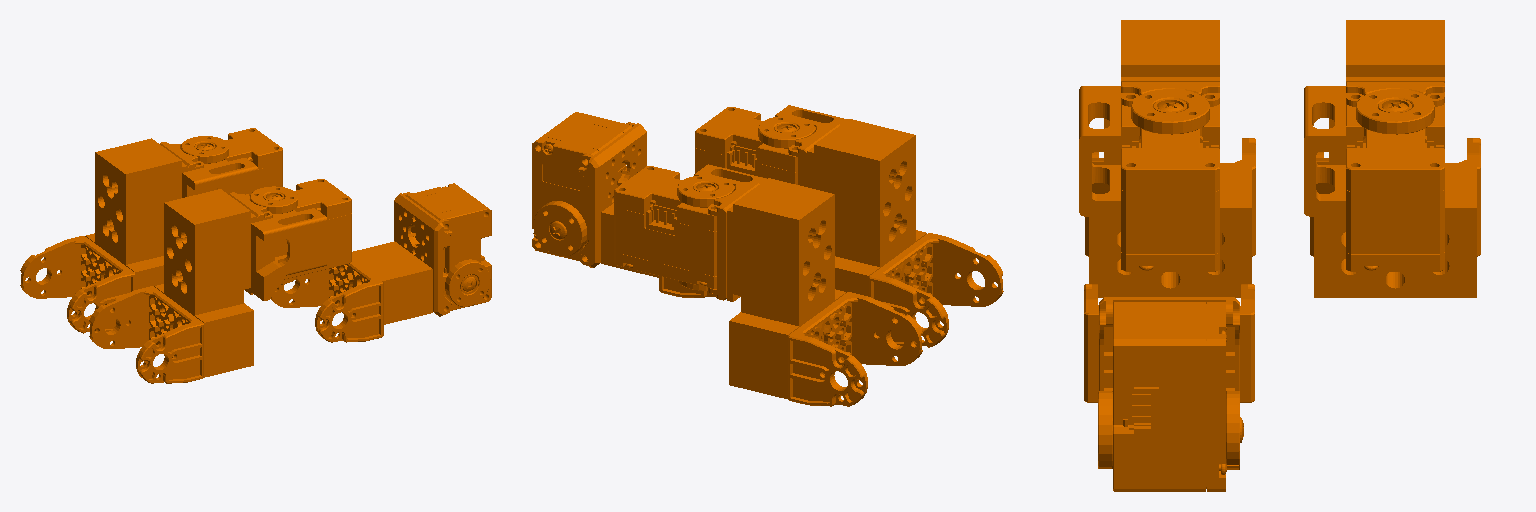
robot.urdf — onshape:
<robot name="onshape">
  <link name="palm_lower">
    <inertial>
      <origin xyz="0.0 0.0 0.0" rpy="0.0 -0.0 0.0"/>
      <mass value="0.237"/>
      <inertia ixx="0.000354094" ixy="-1.193e-06" ixz="-2.445e-06" iyy="0.000260915" iyz="-2.905e-06" izz="0.000529257"/>
    </inertial>
    <visual>
      <geometry>
        <mesh filename="../assets/leap/leap_hand/palm_lower.stl"/>
      </geometry>
      <origin xyz="-0.020095249652862544 0.025757756134899473 -0.034722403578460216" rpy="0.0 -0.0 0.0"/>
      <material name="palm_lower_material">
        <color rgba="0.6039215686274509 0.14901960784313725 0.14901960784313725 1.0"/>
      </material>
    </visual>
    <collision>
      <geometry>
        <mesh filename="../assets/leap/leap_hand/palm_lower.stl"/>
      </geometry>
      <origin xyz="-0.020095249652862544 0.025757756134899473 -0.034722403578460216" rpy="0.0 -0.0 0.0"/>
    </collision>
  </link>
  <link name="mcp_joint_long">
    <inertial>
      <origin xyz="0.0 0.0 0.0" rpy="0.0 -0.0 0.0"/>
      <mass value="0.044"/>
      <inertia ixx="1.1499e-05" ixy="3.049e-06" ixz="1.21e-07" iyy="7.796e-06" iyz="1.12e-07" izz="1.4759e-05"/>
    </inertial>
    <visual>
      <geometry>
        <mesh filename="custom_models/mcp_joint_long.stl"/>
      </geometry>
      <origin xyz="0.008406902261174496 0.0077662438597169954 0.014657354985032912" rpy="1.6375789613221e-15 -1.021047330249102e-30 1.7177968783327987e-31"/>
      <material name="mcp_joint_material">
        <color rgba="0.878 0.467 0.0 1.0"/>
      </material>
    </visual>
    <collision>
      <geometry>
        <mesh filename="custom_models/mcp_joint_long.stl"/>
      </geometry>
      <origin xyz="0.008406902261174496 0.0077662438597169954 0.014657354985032912" rpy="1.6375789613221e-15 -1.021047330249102e-30 1.7177968783327987e-31"/>
    </collision>
  </link>
  <link name="pip">
    <inertial>
      <origin xyz="0.0 0.0 0.0" rpy="0.0 -0.0 0.0"/>
      <mass value="0.032"/>
      <inertia ixx="4.798e-06" ixy="1.2e-08" ixz="4e-09" iyy="2.862e-06" iyz="1.1e-08" izz="4.234e-06"/>
    </inertial>
    <visual>
      <geometry>
        <mesh filename="../assets/leap/leap_hand/pip.stl"/>
      </geometry>
      <origin xyz="0.009643363092271328 0.0002999999999999895 0.0007840340104173765" rpy="-1.5707963267948966 -1.5707963267948963 0.0"/>
      <material name="pip_material">
        <color rgba="0.7490196078431373 0.7490196078431373 0.7490196078431373 1.0"/>
      </material>
    </visual>
    <collision>
      <geometry>
        <mesh filename="../assets/leap/leap_hand/pip.stl"/>
      </geometry>
      <origin xyz="0.009643363092271328 0.0002999999999999895 0.0007840340104173765" rpy="-1.5707963267948966 -1.5707963267948963 0.0"/>
    </collision>
  </link>
  <link name="dip">
    <inertial>
      <origin xyz="0.0 0.0 0.0" rpy="0.0 -0.0 0.0"/>
      <mass value="0.037"/>
      <inertia ixx="5.542e-06" ixy="-6.07e-07" ixz="-1.7e-08" iyy="5.727e-06" iyz="-2.3e-08" izz="6.682e-06"/>
    </inertial>
    <visual>
      <geometry>
        <mesh filename="../assets/leap/leap_hand/dip.stl"/>
      </geometry>
      <origin xyz="0.021133352895225003 -0.00843211914670488 0.00978508816209524" rpy="-3.141592653589793 4.507511124216441e-32 4.439548105392361e-32"/>
      <material name="dip_material">
        <color rgba="0.8666666666666667 0.8666666666666667 0.050980392156862744 1.0"/>
      </material>
    </visual>
    <collision>
      <geometry>
        <mesh filename="../assets/leap/leap_hand/dip.stl"/>
      </geometry>
      <origin xyz="0.021133352895225003 -0.00843211914670488 0.00978508816209524" rpy="-3.141592653589793 4.507511124216441e-32 4.439548105392361e-32"/>
    </collision>
  </link>
  <link name="fingertip">
    <inertial>
      <origin xyz="0.0 0.0 0.0" rpy="0.0 -0.0 0.0"/>
      <mass value="0.016"/>
      <inertia ixx="3.368e-06" ixy="1.15e-07" ixz="0.0" iyy="1.556e-06" iyz="0.0" izz="2.863e-06"/>
    </inertial>
    <visual>
      <geometry>
        <mesh filename="../assets/leap/leap_hand/fingertip.stl"/>
      </geometry>
      <origin xyz="0.013286424108533503 -0.006114238386541987 0.014499999999999498" rpy="3.141592653589793 1.1993117970061735e-33 4.439548105392361e-32"/>
      <material name="fingertip_material">
        <color rgba="0.8666666666666667 0.8666666666666667 0.050980392156862744 1.0"/>
      </material>
    </visual>
    <collision>
      <geometry>
        <mesh filename="../assets/leap/leap_hand/fingertip.stl"/>
      </geometry>
      <origin xyz="0.013286424108533503 -0.006114238386541987 0.014499999999999498" rpy="3.141592653589793 1.1993117970061735e-33 4.439548105392361e-32"/>
    </collision>
  </link>
  <link name="pip_4">
    <inertial>
      <origin xyz="0.0 0.0 0.0" rpy="0.0 -0.0 0.0"/>
      <mass value="0.032"/>
      <inertia ixx="4.798e-06" ixy="1.2e-08" ixz="4e-09" iyy="2.862e-06" iyz="1.1e-08" izz="4.234e-06"/>
    </inertial>
    <visual>
      <geometry>
        <mesh filename="../assets/leap/leap_hand/pip.stl"/>
      </geometry>
      <origin xyz="-0.005356636907728671 0.0002999999999999999 0.0007840340104173782" rpy="-1.5707963267948966 -1.5707963267948963 0.0"/>
      <material name="pip_material">
        <color rgba="0.7490196078431373 0.7490196078431373 0.7490196078431373 1.0"/>
      </material>
    </visual>
    <collision>
      <geometry>
        <mesh filename="../assets/leap/leap_hand/pip.stl"/>
      </geometry>
      <origin xyz="-0.005356636907728671 0.0002999999999999999 0.0007840340104173782" rpy="-1.5707963267948966 -1.5707963267948963 0.0"/>
    </collision>
  </link>
  <link name="thumb_pip">
    <inertial>
      <origin xyz="0.0 0.0 0.0" rpy="0.0 -0.0 0.0"/>
      <mass value="0.003"/>
      <inertia ixx="5.93e-07" ixy="0.0" ixz="0.0" iyy="5.49e-07" iyz="0.0" izz="2.24e-07"/>
    </inertial>
    <visual>
      <geometry>
        <mesh filename="../assets/leap/leap_hand/thumb_pip.stl"/>
      </geometry>
      <origin xyz="0.011961920770611187 -5.30825383648903e-16 -0.0158526489566642" rpy="1.5707963267948966 1.6050198443300153e-46 -3.9204996250525193e-59"/>
      <material name="thumb_pip_material">
        <color rgba="0.8666666666666667 0.8666666666666667 0.050980392156862744 1.0"/>
      </material>
    </visual>
    <collision>
      <geometry>
        <mesh filename="../assets/leap/leap_hand/thumb_pip.stl"/>
      </geometry>
      <origin xyz="0.011961920770611187 -5.30825383648903e-16 -0.0158526489566642" rpy="1.5707963267948966 1.6050198443300153e-46 -3.9204996250525193e-59"/>
    </collision>
  </link>
  <link name="thumb_dip">
    <inertial>
      <origin xyz="0.0 0.0 0.0" rpy="0.0 -0.0 0.0"/>
      <mass value="0.038"/>
      <inertia ixx="8.474e-06" ixy="2.41e-07" ixz="2.6e-08" iyy="3.841e-06" iyz="2.5e-08" izz="7.679e-06"/>
    </inertial>
    <visual>
      <geometry>
        <mesh filename="../assets/leap/leap_hand/thumb_dip.stl"/>
      </geometry>
      <origin xyz="0.043968715707239175 0.0579529529737092 -0.008628676449369476" rpy="1.94289029309401e-16 3.27515792264422e-15 1.112375852965736e-46"/>
      <material name="thumb_dip_material">
        <color rgba="0.8666666666666667 0.8666666666666667 0.050980392156862744 1.0"/>
      </material>
    </visual>
    <collision>
      <geometry>
        <mesh filename="../assets/leap/leap_hand/thumb_dip.stl"/>
      </geometry>
      <origin xyz="0.043968715707239175 0.0579529529737092 -0.008628676449369476" rpy="1.94289029309401e-16 3.27515792264422e-15 1.112375852965736e-46"/>
    </collision>
  </link>
  <link name="thumb_fingertip">
    <inertial>
      <origin xyz="0.0 0.0 0.0" rpy="0.0 -0.0 0.0"/>
      <mass value="0.049"/>
      <inertia ixx="2.0372e-05" ixy="-4.89e-07" ixz="-3e-08" iyy="4.336e-06" iyz="-9.7e-08" izz="1.9845e-05"/>
    </inertial>
    <visual>
      <geometry>
        <mesh filename="../assets/leap/leap_hand/thumb_fingertip.stl"/>
      </geometry>
      <origin xyz="0.06255953846266739 0.07845968291139699 0.048992911807332215" rpy="4.379057701015637e-47 -3.33066907387547e-16 1.2042408677791935e-46"/>
      <material name="thumb_fingertip_material">
        <color rgba="0.6039215686274509 0.14901960784313725 0.14901960784313725 1.0"/>
      </material>
    </visual>
    <collision>
      <geometry>
        <mesh filename="../assets/leap/leap_hand/thumb_fingertip.stl"/>
      </geometry>
      <origin xyz="0.06255953846266739 0.07845968291139699 0.048992911807332215" rpy="4.379057701015637e-47 -3.33066907387547e-16 1.2042408677791935e-46"/>
    </collision>
  </link>
  <link name="mcp_joint_2_long">
    <inertial>
      <origin xyz="0.0 0.0 0.0" rpy="0.0 -0.0 0.0"/>
      <mass value="0.044"/>
      <inertia ixx="1.1499e-05" ixy="3.049e-06" ixz="1.21e-07" iyy="7.796e-06" iyz="1.12e-07" izz="1.4759e-05"/>
    </inertial>
    <visual>
      <geometry>
        <mesh filename="custom_models/mcp_joint_long.stl"/>
      </geometry>
      <origin xyz="0.008406902261174496 0.0077662438597169954 0.014657354985032914" rpy="1.6375789613221e-15 -1.0076465469034e-30 2.1209300131419907e-61"/>
      <material name="mcp_joint_material">
        <color rgba="0.878 0.467 0.0 1.0"/>
      </material>
    </visual>
    <collision>
      <geometry>
        <mesh filename="custom_models/mcp_joint_long.stl"/>
      </geometry>
      <origin xyz="0.008406902261174496 0.0077662438597169954 0.014657354985032914" rpy="1.6375789613221e-15 -1.0076465469034e-30 2.1209300131419907e-61"/>
    </collision>
  </link>
  <link name="pip_2">
    <inertial>
      <origin xyz="0.0 0.0 0.0" rpy="0.0 -0.0 0.0"/>
      <mass value="0.032"/>
      <inertia ixx="4.798e-06" ixy="1.2e-08" ixz="4e-09" iyy="2.862e-06" iyz="1.1e-08" izz="4.234e-06"/>
    </inertial>
    <visual>
      <geometry>
        <mesh filename="../assets/leap/leap_hand/pip.stl"/>
      </geometry>
      <origin xyz="0.009643363092271328 0.0002999999999999947 0.0007840340104173765" rpy="-1.5707963267948966 -1.5707963267948963 0.0"/>
      <material name="pip_material">
        <color rgba="0.7490196078431373 0.7490196078431373 0.7490196078431373 1.0"/>
      </material>
    </visual>
    <collision>
      <geometry>
        <mesh filename="../assets/leap/leap_hand/pip.stl"/>
      </geometry>
      <origin xyz="0.009643363092271328 0.0002999999999999947 0.0007840340104173765" rpy="-1.5707963267948966 -1.5707963267948963 0.0"/>
    </collision>
  </link>
  <link name="dip_2_long">
    <inertial>
      <origin xyz="0.0 0.0 0.0" rpy="0.0 -0.0 0.0"/>
      <mass value="0.037"/>
      <inertia ixx="5.542e-06" ixy="-6.07e-07" ixz="-1.7e-08" iyy="5.727e-06" iyz="-2.3e-08" izz="6.682e-06"/>
    </inertial>
    <visual>
      <geometry>
        <mesh filename="custom_models/dip_long.stl"/>
      </geometry>
      <origin xyz="0.021133352895225003 -0.008432119146704865 0.009785088162095237" rpy="-3.141592653589793 2.1146933785271956e-32 1.4408183216511869e-31"/>
      <material name="dip_material">
        <color rgba="0.878 0.467 0.0 1.0"/>
      </material>
    </visual>
    <collision>
      <geometry>
        <mesh filename="custom_models/dip_long.stl"/>
      </geometry>
      <origin xyz="0.021133352895225003 -0.008432119146704865 0.009785088162095237" rpy="-3.141592653589793 2.1146933785271956e-32 1.4408183216511869e-31"/>
    </collision>
  </link>
  <link name="fingertip_2">
    <inertial>
      <origin xyz="0.0 0.0 0.0" rpy="0.0 -0.0 0.0"/>
      <mass value="0.016"/>
      <inertia ixx="3.368e-06" ixy="1.15e-07" ixz="0.0" iyy="1.556e-06" iyz="0.0" izz="2.863e-06"/>
    </inertial>
    <visual>
      <geometry>
        <mesh filename="../assets/leap/leap_hand/fingertip.stl"/>
      </geometry>
      <origin xyz="0.013286424108533496 -0.006114238386542001 0.014499999999999496" rpy="3.141592653589793 -4.317959788283594e-33 1.4408183216511869e-31"/>
      <material name="fingertip_material">
        <color rgba="0.8666666666666667 0.8666666666666667 0.050980392156862744 1.0"/>
      </material>
    </visual>
    <collision>
      <geometry>
        <mesh filename="../assets/leap/leap_hand/fingertip.stl"/>
      </geometry>
      <origin xyz="0.013286424108533496 -0.006114238386542001 0.014499999999999496" rpy="3.141592653589793 -4.317959788283594e-33 1.4408183216511869e-31"/>
    </collision>
  </link>
  <link name="mcp_joint_3">
    <inertial>
      <origin xyz="0.0 0.0 0.0" rpy="0.0 -0.0 0.0"/>
      <mass value="0.044"/>
      <inertia ixx="1.1499e-05" ixy="3.049e-06" ixz="1.21e-07" iyy="7.796e-06" iyz="1.12e-07" izz="1.4759e-05"/>
    </inertial>
    <visual>
      <geometry>
        <mesh filename="../assets/leap/leap_hand/mcp_joint.stl"/>
      </geometry>
      <origin xyz="0.0084069022611745 0.007766243859716996 0.014657354985032914" rpy="1.6375789613221e-15 -1.0059504988632627e-30 5.729641584552035e-32"/>
      <material name="mcp_joint_material">
        <color rgba="0.8666666666666667 0.8666666666666667 0.050980392156862744 1.0"/>
      </material>
    </visual>
    <collision>
      <geometry>
        <mesh filename="../assets/leap/leap_hand/mcp_joint.stl"/>
      </geometry>
      <origin xyz="0.0084069022611745 0.007766243859716996 0.014657354985032914" rpy="1.6375789613221e-15 -1.0059504988632627e-30 5.729641584552035e-32"/>
    </collision>
  </link>
  <link name="pip_3">
    <inertial>
      <origin xyz="0.0 0.0 0.0" rpy="0.0 -0.0 0.0"/>
      <mass value="0.032"/>
      <inertia ixx="4.798e-06" ixy="1.2e-08" ixz="4e-09" iyy="2.862e-06" iyz="1.1e-08" izz="4.234e-06"/>
    </inertial>
    <visual>
      <geometry>
        <mesh filename="../assets/leap/leap_hand/pip.stl"/>
      </geometry>
      <origin xyz="0.009643363092271331 0.00029999999999998084 0.0007840340104173765" rpy="-1.5707963267948966 -1.5707963267948963 0.0"/>
      <material name="pip_material">
        <color rgba="0.7490196078431373 0.7490196078431373 0.7490196078431373 1.0"/>
      </material>
    </visual>
    <collision>
      <geometry>
        <mesh filename="../assets/leap/leap_hand/pip.stl"/>
      </geometry>
      <origin xyz="0.009643363092271331 0.00029999999999998084 0.0007840340104173765" rpy="-1.5707963267948966 -1.5707963267948963 0.0"/>
    </collision>
  </link>
  <link name="dip_3">
    <inertial>
      <origin xyz="0.0 0.0 0.0" rpy="0.0 -0.0 0.0"/>
      <mass value="0.037"/>
      <inertia ixx="5.542e-06" ixy="-6.07e-07" ixz="-1.7e-08" iyy="5.727e-06" iyz="-2.3e-08" izz="6.682e-06"/>
    </inertial>
    <visual>
      <geometry>
        <mesh filename="../assets/leap/leap_hand/dip.stl"/>
      </geometry>
      <origin xyz="0.021133352895225006 -0.008432119146704865 0.009785088162095237" rpy="-3.141592653589793 -1.4095651113919093e-33 1.5565411607615035e-32"/>
      <material name="dip_material">
        <color rgba="0.8666666666666667 0.8666666666666667 0.050980392156862744 1.0"/>
      </material>
    </visual>
    <collision>
      <geometry>
        <mesh filename="../assets/leap/leap_hand/dip.stl"/>
      </geometry>
      <origin xyz="0.021133352895225006 -0.008432119146704865 0.009785088162095237" rpy="-3.141592653589793 -1.4095651113919093e-33 1.5565411607615035e-32"/>
    </collision>
  </link>
  <link name="fingertip_3">
    <inertial>
      <origin xyz="0.0 0.0 0.0" rpy="0.0 -0.0 0.0"/>
      <mass value="0.016"/>
      <inertia ixx="3.368e-06" ixy="1.15e-07" ixz="0.0" iyy="1.556e-06" iyz="0.0" izz="2.863e-06"/>
    </inertial>
    <visual>
      <geometry>
        <mesh filename="../assets/leap/leap_hand/fingertip.stl"/>
      </geometry>
      <origin xyz="0.013286424108533501 -0.006114238386541987 0.0144999999999995" rpy="3.141592653589793 8.61707169505754e-33 1.5565411607615035e-32"/>
      <material name="fingertip_material">
        <color rgba="0.8666666666666667 0.8666666666666667 0.050980392156862744 1.0"/>
      </material>
    </visual>
    <collision>
      <geometry>
        <mesh filename="../assets/leap/leap_hand/fingertip.stl"/>
      </geometry>
      <origin xyz="0.013286424108533501 -0.006114238386541987 0.0144999999999995" rpy="3.141592653589793 8.61707169505754e-33 1.5565411607615035e-32"/>
    </collision>
  </link>
  <joint name="1" type="revolute">
    <parent link="palm_lower"/>
    <child link="mcp_joint_long"/>
    <origin xyz="-0.007095249652862546 0.023057756134899472 -0.01872240357846022" rpy="1.570796326794895 1.5707963267948946 0.0"/>
    <axis xyz="0.0 0.0 -1.0"/>
    <limit effort="0.95" velocity="8.48" lower="-0.314" upper="2.23"/>
  </joint>
  <joint name="0" type="revolute">
    <parent link="mcp_joint_long"/>
    <child link="pip"/>
    <origin xyz="-0.012200000000000007713 0.053099999999999994982 0.014500000000000000736" rpy="-1.5707963267948966 -1.0065212660796337e-15 1.5707963267948943"/>
    <axis xyz="0.0 0.0 -1.0"/>
    <limit effort="0.95" velocity="8.48" lower="-1.047" upper="1.047"/>
  </joint>
  <joint name="2" type="revolute">
    <parent link="pip"/>
    <child link="dip"/>
    <origin xyz="0.014999999999999968 0.014299999999999905 -0.012999999999999824" rpy="1.570796326794896 -1.5707963267948963 0.0"/>
    <axis xyz="0.0 0.0 -1.0"/>
    <limit effort="0.95" velocity="8.48" lower="-0.506" upper="1.885"/>
  </joint>
  <joint name="3" type="revolute">
    <parent link="dip"/>
    <child link="fingertip"/>
    <origin xyz="-4.088058249557269e-09 -0.03610000421036737 0.0002000000000000786" rpy="4.5935029425113685e-17 -2.8730071914463795e-16 4.439548105392361e-32"/>
    <axis xyz="0.0 0.0 -1.0"/>
    <limit effort="0.95" velocity="8.48" lower="-0.366" upper="2.042"/>
  </joint>
  <joint name="12" type="revolute">
    <parent link="palm_lower"/>
    <child link="pip_4"/>
    <origin xyz="-0.06939524965286253 -0.0012422438651005258 -0.021622403578460216" rpy="-8.238176646493942e-17 1.5707963267948957 0.0"/>
    <axis xyz="0.0 0.0 -1.0"/>
    <limit effort="0.95" velocity="8.48" lower="-0.349" upper="2.094"/>
  </joint>
  <joint name="13" type="revolute">
    <parent link="pip_4"/>
    <child link="thumb_pip"/>
    <origin xyz="-2.7755575615628914e-17 0.014300000000000005 -0.013000000000000012" rpy="1.570796326794896 -1.5707963267948963 0.0"/>
    <axis xyz="0.0 0.0 -1.0"/>
    <limit effort="0.95" velocity="8.48" lower="-0.47" upper="2.443"/>
  </joint>
  <joint name="14" type="revolute">
    <parent link="thumb_pip"/>
    <child link="thumb_dip"/>
    <origin xyz="0.0 0.014499999999999966 -0.017000000000000053" rpy="-1.5707963267948966 1.6050198443300131e-46 -1.9721522630516625e-31"/>
    <axis xyz="0.0 0.0 -1.0"/>
    <limit effort="0.95" velocity="8.48" lower="-1.2" upper="1.9"/>
  </joint>
  <joint name="15" type="revolute">
    <parent link="thumb_dip"/>
    <child link="thumb_fingertip"/>
    <origin xyz="-1.249000902703301e-16 0.046599999999999864 0.0001999999999999771" rpy="1.506395849149178e-44 5.423418723393526e-31 3.141592653589793"/>
    <axis xyz="0.0 0.0 -1.0"/>
    <limit effort="0.95" velocity="8.48" lower="-1.34" upper="1.88"/>
  </joint>
  <joint name="5" type="revolute">
    <parent link="palm_lower"/>
    <child link="mcp_joint_2_long"/>
    <origin xyz="-0.007095249652862546 -0.022392243865100525 -0.01872240357846022" rpy="1.570796326794895 1.5707963267948946 0.0"/>
    <axis xyz="0.0 0.0 -1.0"/>
    <limit effort="0.95" velocity="8.48" lower="-0.314" upper="2.23"/>
  </joint>
  <joint name="4" type="revolute">
    <parent link="mcp_joint_2_long"/>
    <child link="pip_2"/>
    <origin xyz="-0.012200000000000007713 0.053099999999999994982 0.014500000000000000736" rpy="-1.5707963267948966 -1.0065212660796337e-15 1.5707963267948943"/>
    <axis xyz="0.0 0.0 -1.0"/>
    <limit effort="0.95" velocity="8.48" lower="-1.047" upper="1.047"/>
  </joint>
  <joint name="6" type="revolute">
    <parent link="pip_2"/>
    <child link="dip_2_long"/>
    <origin xyz="0.014999999999999968 0.014299999999999905 -0.012999999999999824" rpy="1.570796326794896 -1.5707963267948963 0.0"/>
    <axis xyz="0.0 0.0 -1.0"/>
    <limit effort="0.95" velocity="8.48" lower="-0.506" upper="1.885"/>
  </joint>
  <joint name="7" type="revolute">
    <parent link="dip_2_long"/>
    <child link="fingertip_2"/>
    <origin xyz="-4.0880582495572692636e-09 -0.051100004210367367397 0.00020000000000007858714" rpy="4.5935029425113685e-17 -2.8730071914463795e-16 4.439548105392361e-32"/>
    <axis xyz="0.0 0.0 -1.0"/>
    <limit effort="0.95" velocity="8.48" lower="-0.366" upper="2.042"/>
  </joint>
  <joint name="9" type="revolute">
    <parent link="palm_lower"/>
    <child link="mcp_joint_3"/>
    <origin xyz="-0.007095249652862546 -0.06784224386510052 -0.01872240357846022" rpy="1.570796326794895 1.5707963267948946 0.0"/>
    <axis xyz="0.0 0.0 -1.0"/>
    <limit effort="0.95" velocity="8.48" lower="-0.314" upper="2.23"/>
  </joint>
  <joint name="8" type="revolute">
    <parent link="mcp_joint_3"/>
    <child link="pip_3"/>
    <origin xyz="-0.012200000000000008 0.038099999999999995 0.0145" rpy="-1.5707963267948966 -1.0065212660796337e-15 1.5707963267948943"/>
    <axis xyz="0.0 0.0 -1.0"/>
    <limit effort="0.95" velocity="8.48" lower="-1.047" upper="1.047"/>
  </joint>
  <joint name="10" type="revolute">
    <parent link="pip_3"/>
    <child link="dip_3"/>
    <origin xyz="0.014999999999999968 0.014299999999999905 -0.012999999999999824" rpy="1.570796326794896 -1.5707963267948963 0.0"/>
    <axis xyz="0.0 0.0 -1.0"/>
    <limit effort="0.95" velocity="8.48" lower="-0.506" upper="1.885"/>
  </joint>
  <joint name="11" type="revolute">
    <parent link="dip_3"/>
    <child link="fingertip_3"/>
    <origin xyz="-4.088058249557269e-09 -0.03610000421036737 0.0002000000000000786" rpy="4.5935029425113685e-17 -2.8730071914463795e-16 4.439548105392361e-32"/>
    <axis xyz="0.0 0.0 -1.0"/>
    <limit effort="0.95" velocity="8.48" lower="-0.366" upper="2.042"/>
  </joint>
</robot>

--- Facts derived from the render (not from the file) ---
3 views of the same robot in one strip: view 1: azimuth 30°, elevation 25°; view 2: azimuth 150°, elevation 25°; view 3: azimuth 270°, elevation 25° (orthographic).
Model onshape with 17 links and 16 joints (16 revolute), rooted at palm_lower, posed all joints at 0.
Visible links, largest first — view 1: mcp_joint_2_long, mcp_joint_long, dip_2_long; view 2: mcp_joint_long, mcp_joint_2_long, dip_2_long; view 3: mcp_joint_long, mcp_joint_2_long, dip_2_long.
Link boxes in pixels (x1,y1,x2,y2): mcp_joint_2_long: (89, 179, 351, 383); mcp_joint_long: (20, 128, 282, 333); dip_2_long: (271, 183, 491, 342); mcp_joint_long: (614, 164, 922, 406); mcp_joint_2_long: (695, 105, 1003, 347); dip_2_long: (532, 112, 716, 297); mcp_joint_long: (1304, 20, 1480, 297); mcp_joint_2_long: (1079, 20, 1255, 297); dip_2_long: (1084, 284, 1254, 491).
Bounding box of the posed robot: 0.1371 × 0.0812 × 0.0538 m (x, y, z).
3 mesh visuals loaded from 10 distinct referenced files (2 binary STL); not drawn: 14 (reference not matched to a file when rendering).